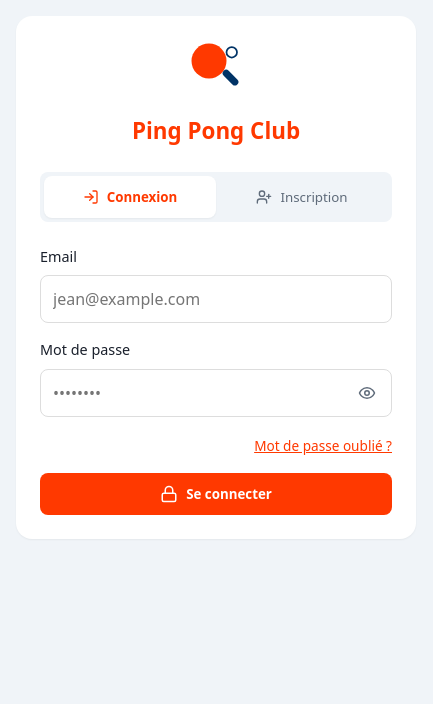
it: Login › bascule vers l'onglet inscription au clic
Click the button "Inscription". click: (302, 197)
box: [216,176,388,218]
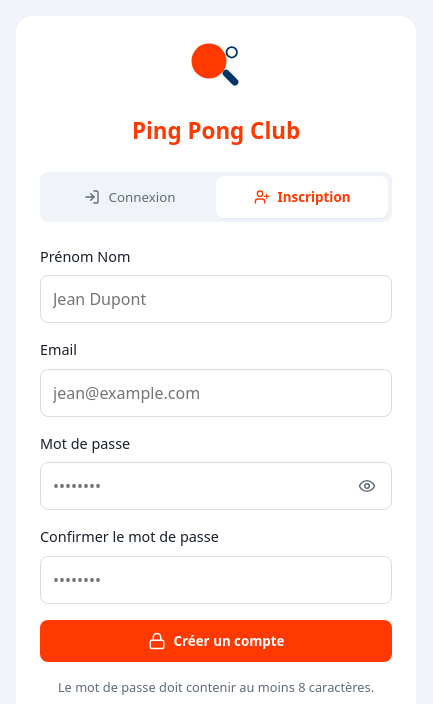
Now the field with placeholder "Jean Dupont" is shown, box [40,275,392,323]
Now the button "Créer un compte" is shown, box [40,620,392,662]
